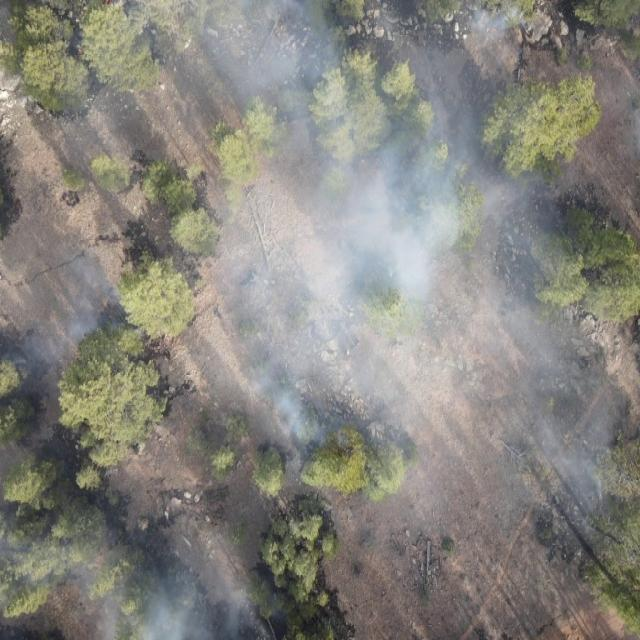fire: (490, 23, 502, 35), (76, 48, 87, 60), (100, 0, 114, 8)
smoke: (86, 0, 526, 188), (204, 186, 474, 442), (467, 183, 614, 521), (0, 525, 293, 640), (10, 243, 138, 376)
